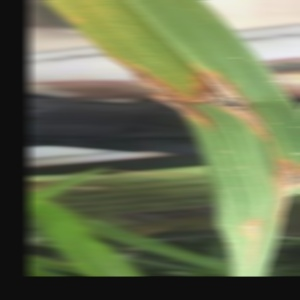Brown_Spot: (113, 54, 212, 120), (190, 56, 269, 131), (260, 139, 300, 210), (238, 207, 278, 261)
